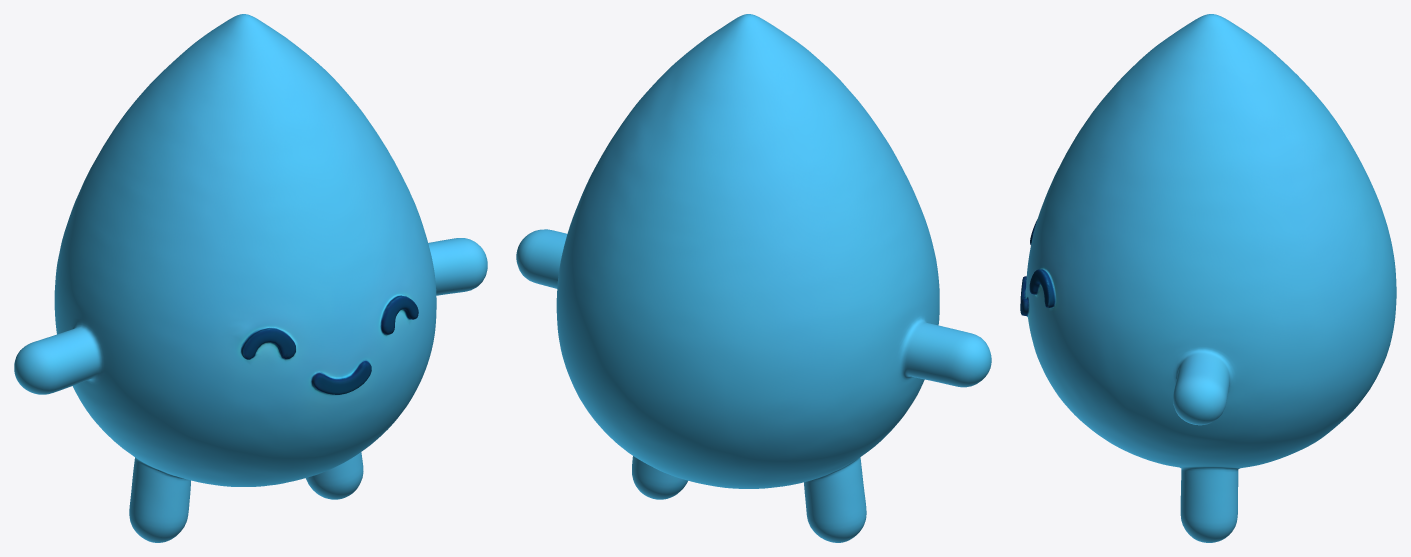
File: walter.glb
3 views of the same model, side by side, from view 1: azimuth 30°, elevation 25°; view 2: azimuth 150°, elevation 25°; view 3: azimuth 270°, elevation 25° (orthographic). The views are drawn at different scales.
Parts seen in each view (by area): view 1: walter; view 2: walter; view 3: walter.
Part boxes in pixels (x1,y1,x2,y2): walter: [14, 14, 487, 542]; walter: [516, 14, 991, 542]; walter: [1020, 14, 1396, 542].
Bounding box in the file's own units: 1.71 × 1.75 × 1.24.
Materials: 1 (1 with a texture image).
